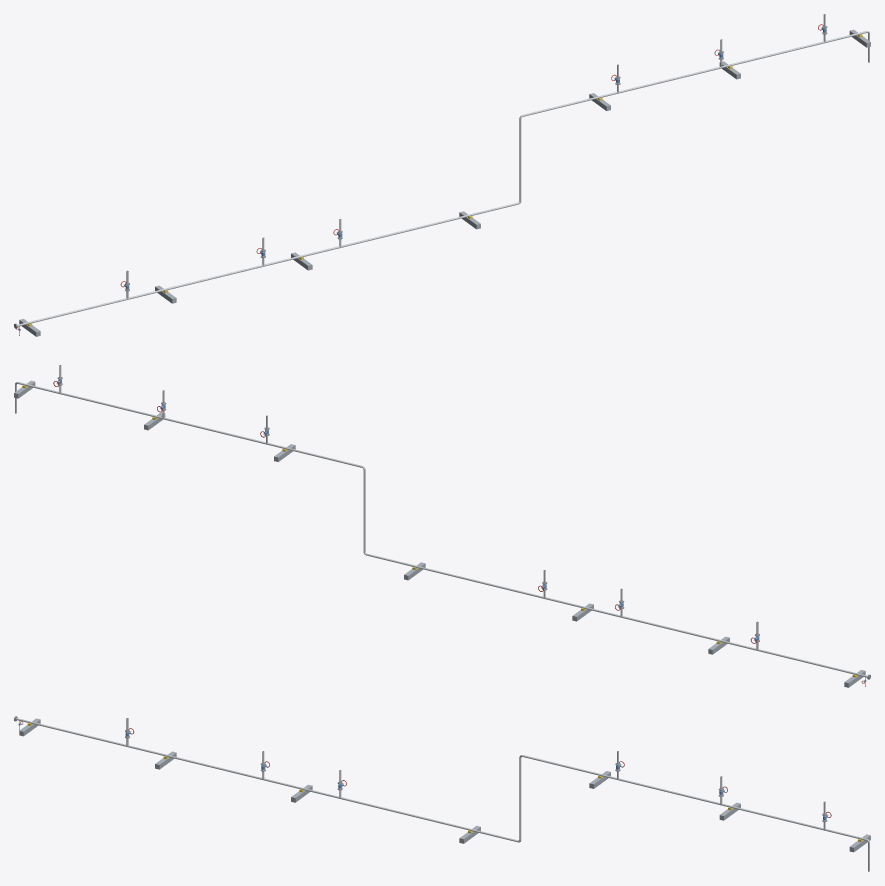
File: IA-00011-view.glb
3 renders of one model, top to bottom at view 1: azimuth 30°, elevation 25°; view 2: azimuth 150°, elevation 25°; view 3: azimuth 330°, elevation 25°, orthographic.
Parts seen in each view (by area): view 1: pipe, steel; view 2: pipe, steel; view 3: pipe, steel.
Boxes of the visible parts, x1,y1,x2,y2 form: pipe: (17,14,869,335); steel: (19,27,870,336); pipe: (15,365,867,686); steel: (14,380,865,687); pipe: (16,718,869,871); steel: (19,718,870,852).
Bounding box in the file's own units: 28.93 × 4.04 × 1.
